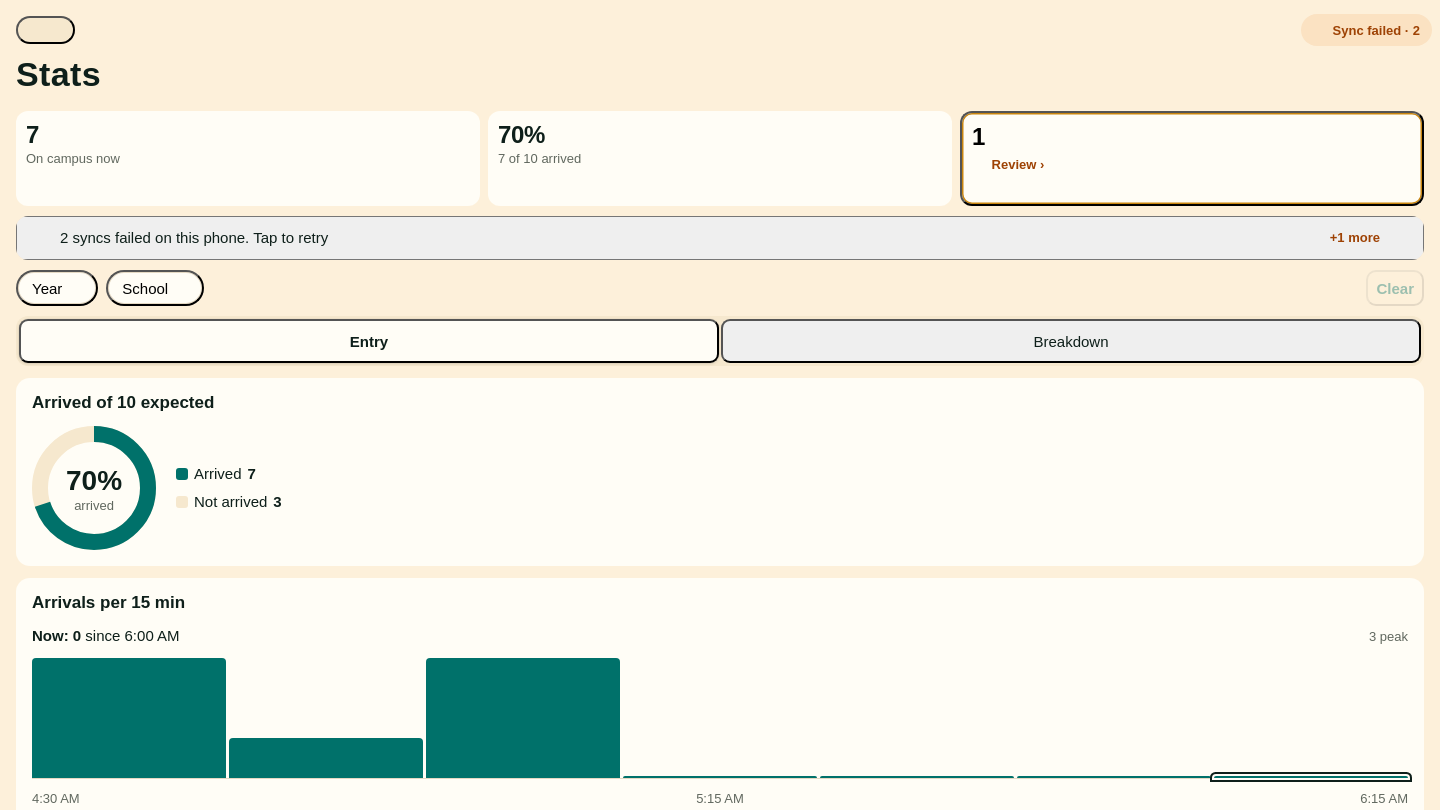
Test: alerts › starts collapsed with a "+N more" and expands and collapses
Click the text "+1 more".
click(1355, 238)  # box left=1330, top=228, right=1380, bottom=248
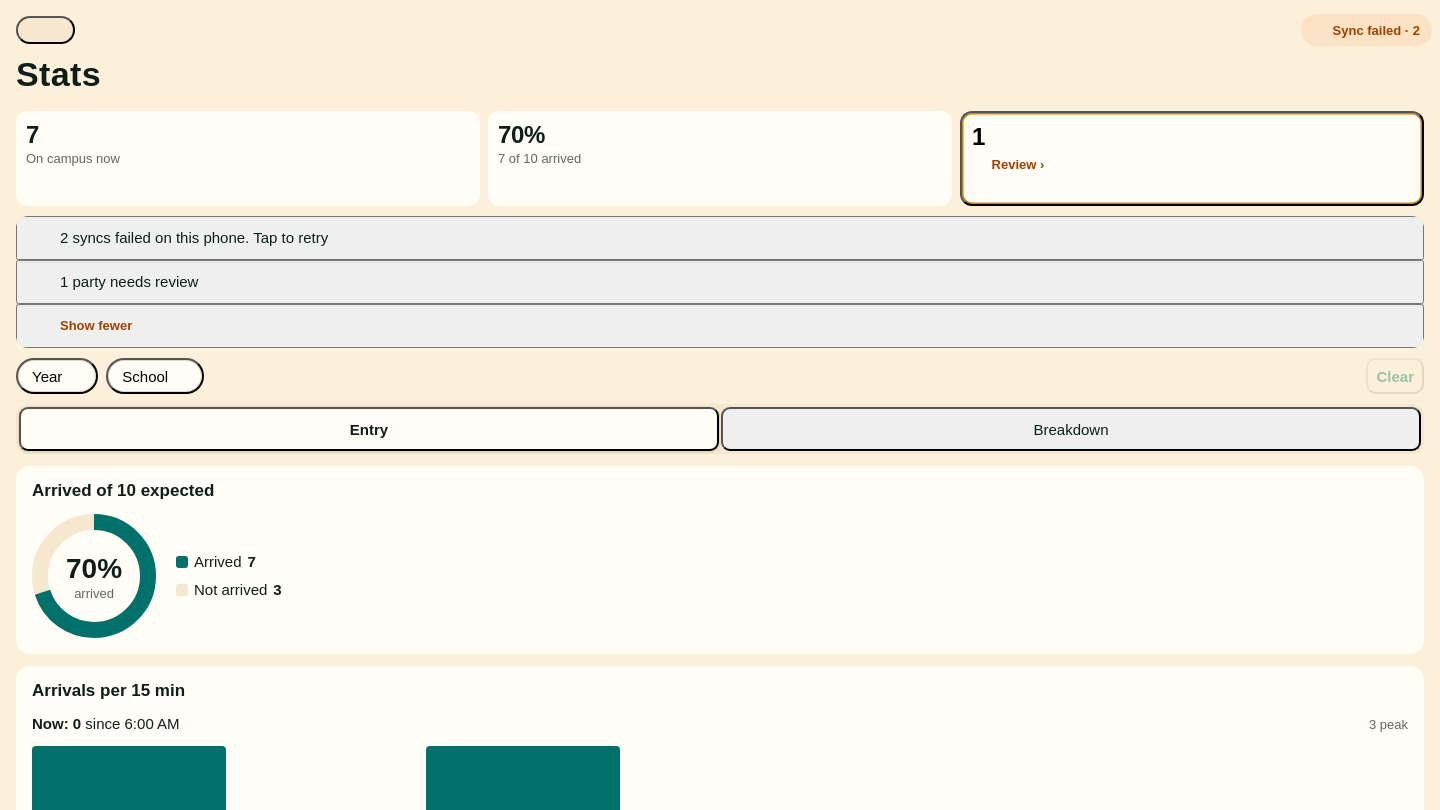
Expected: the text "2 syncs failed on this phone. Tap to retry" is shown, left=60, top=229, right=328, bottom=246
Now the text "1 party needs review" is shown, box left=60, top=273, right=198, bottom=290
Click the button "Show fewer".
click(96, 326)  # box left=16, top=304, right=1424, bottom=348
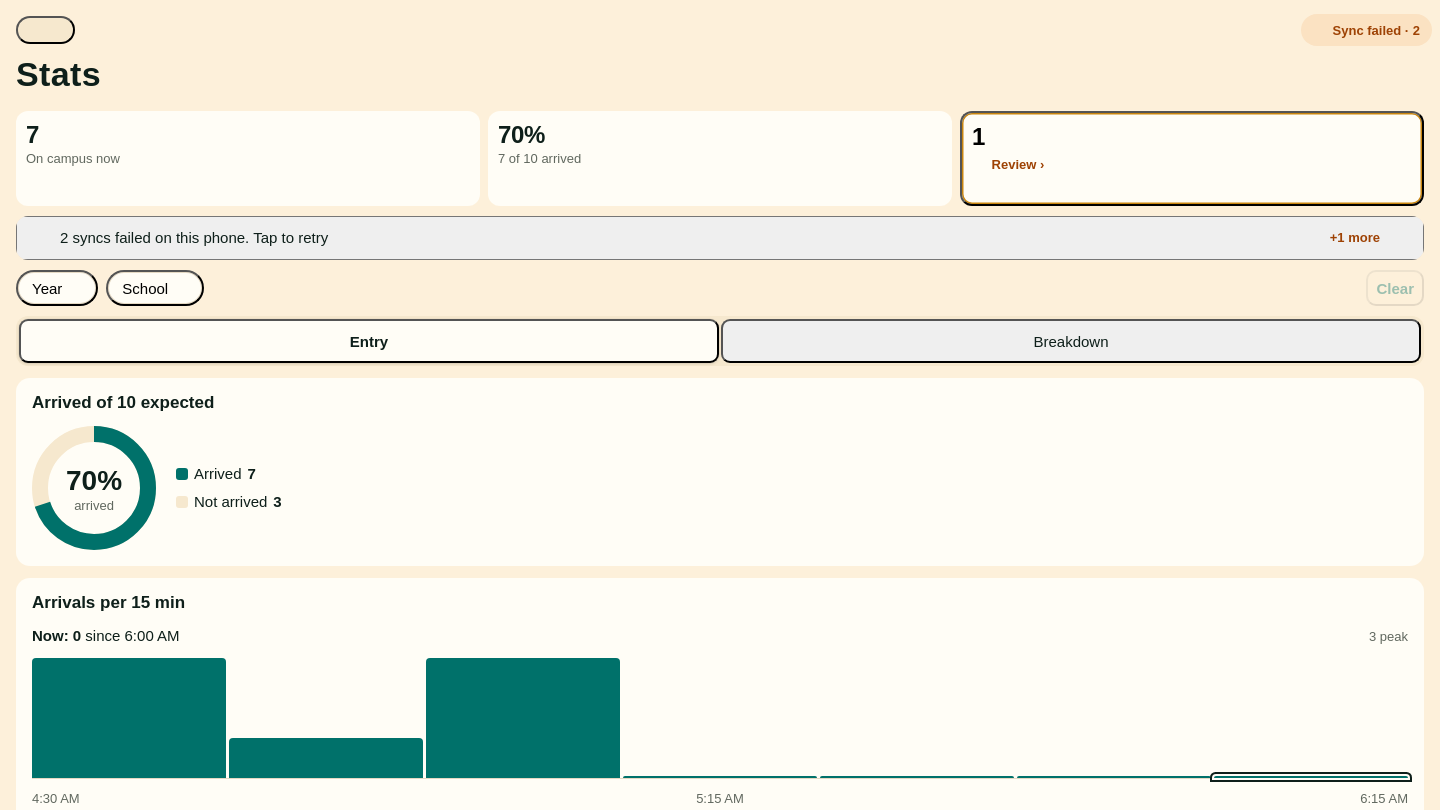
Now the text "+1 more" is shown, box left=1330, top=228, right=1380, bottom=248
